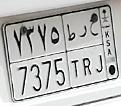5: (51, 25, 67, 86)
7: (12, 27, 27, 97)
R: (79, 25, 91, 77)
T: (65, 23, 79, 78)
